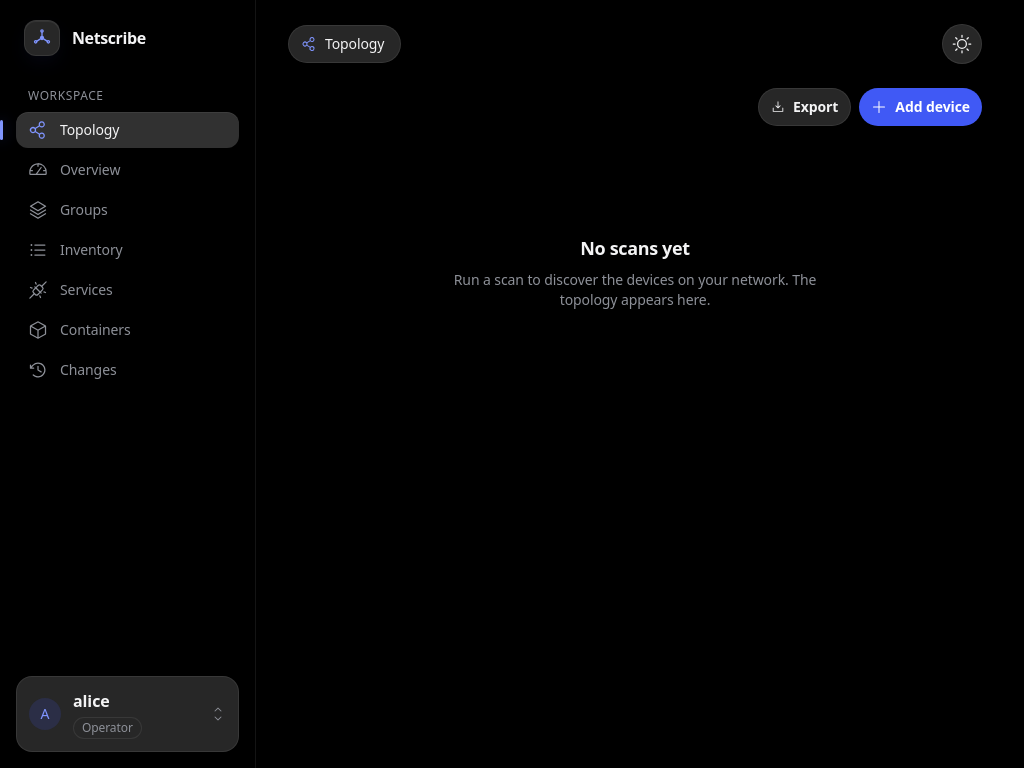
top bar › names the page and has a round button that switches the theme
The width and height of the screenshot is (1024, 768).
Check: the heading "No scans yet" is shown, box [580,234,690,262]
What coordinates should you click on to do the following:
click the button named "Switch to the light theme"
I would click on:
 (962, 44)
Its box is [942,24,982,64].
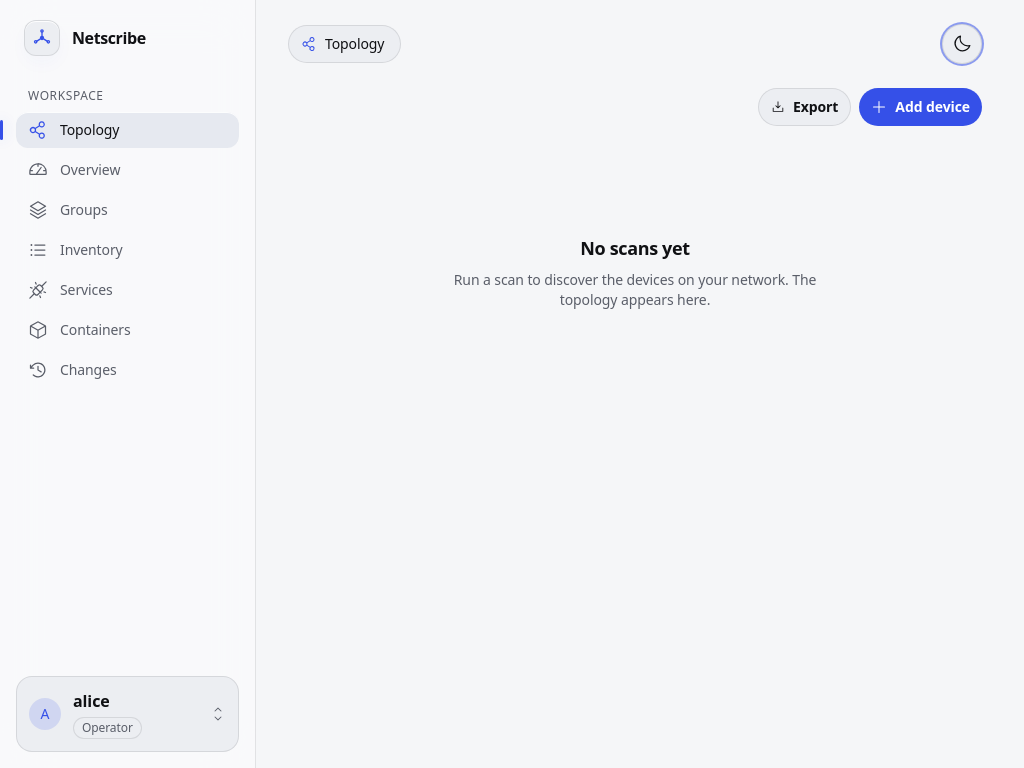
Check: the button named "Switch to the dark theme" is shown, box [942,24,982,64]
